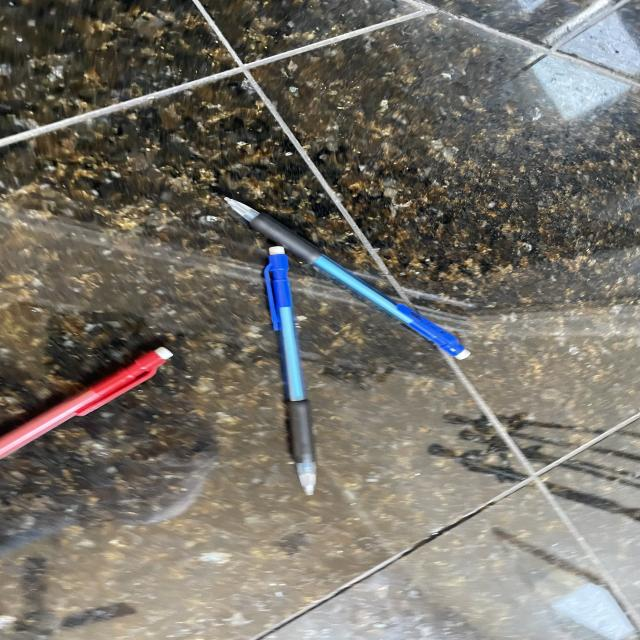mechanical-pencils: (229, 204, 478, 363), (1, 342, 178, 465), (266, 251, 320, 504)
